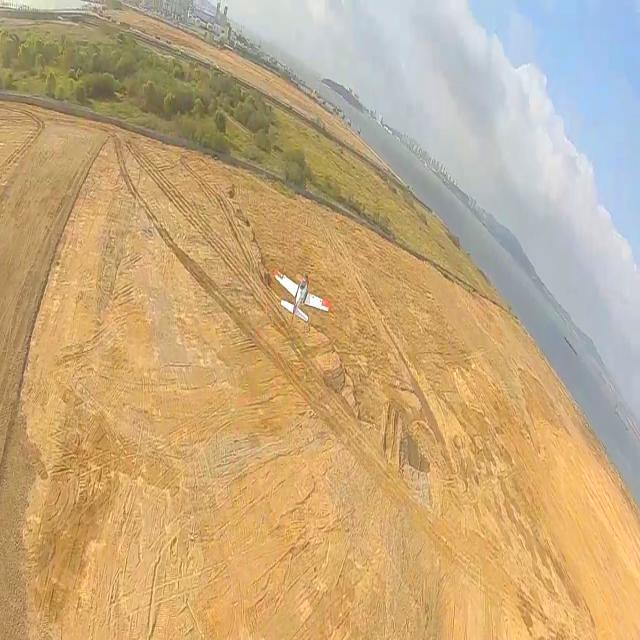iha: (272, 266, 333, 322)
